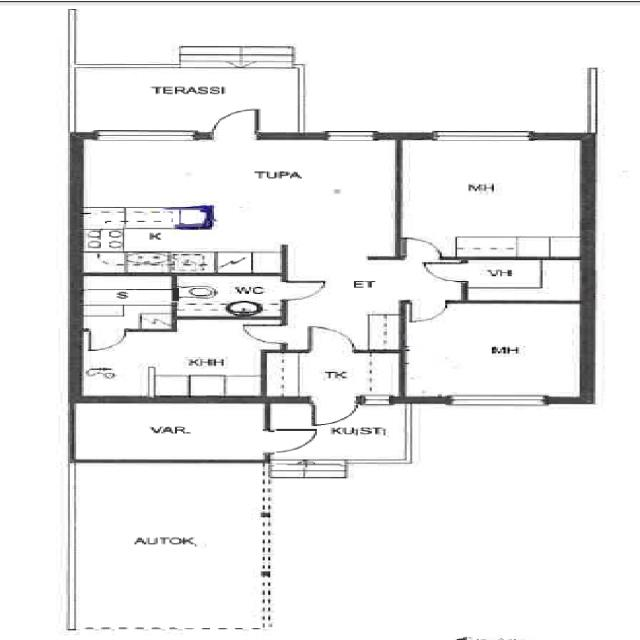door: (312, 396, 357, 426), (308, 326, 354, 353), (213, 110, 257, 138), (264, 430, 314, 453), (280, 280, 324, 300), (404, 238, 442, 260), (244, 325, 288, 344), (410, 300, 447, 322), (90, 328, 126, 350), (424, 263, 467, 281)
